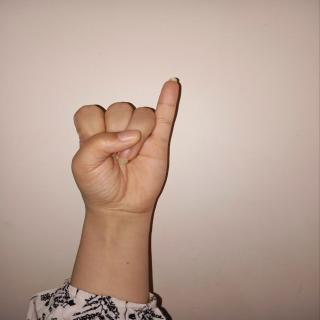MEEM: (59, 70, 195, 230)
